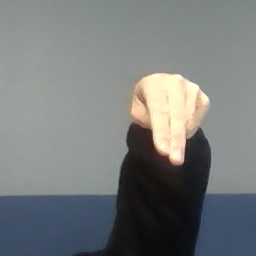N: (127, 71, 212, 167)
